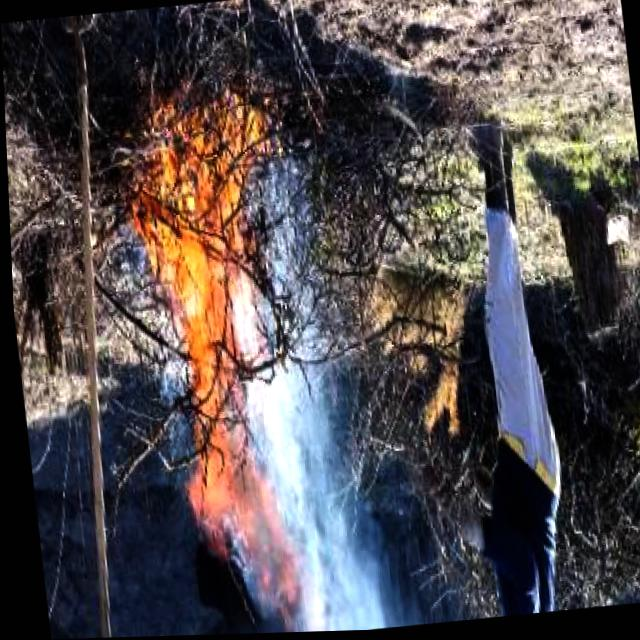helmet: (118, 91, 316, 614)
no_helmet: (228, 176, 386, 635)
